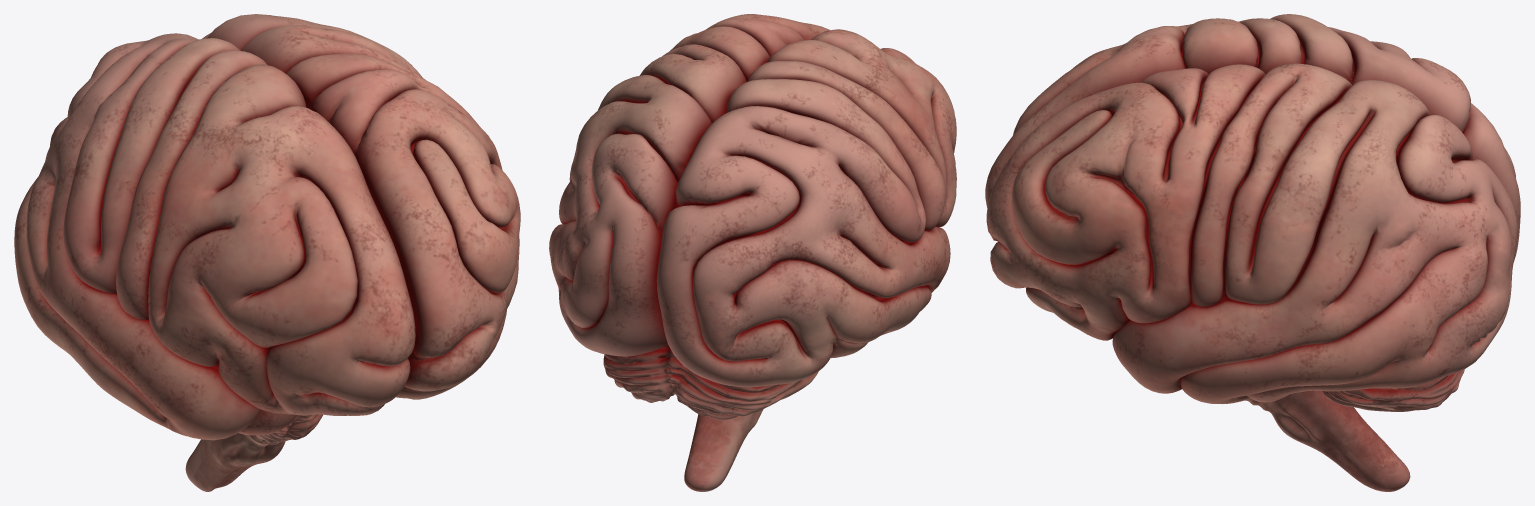
Rendered from cerebro_2.glb.
3 renders of one model, left to right at view 1: azimuth 30°, elevation 25°; view 2: azimuth 150°, elevation 25°; view 3: azimuth 270°, elevation 25°, orthographic. The views are drawn at different scales.
Parts seen in each view (by area): view 1: BRAIN_LOW, BRAIN_STEM; view 2: BRAIN_LOW, cerebellum, BRAIN_STEM; view 3: BRAIN_LOW, BRAIN_STEM, cerebellum.
Boxes of the visible parts, <box> form: BRAIN_LOW: <box>14,14,520,440</box>; BRAIN_STEM: <box>185,414,322,491</box>; BRAIN_LOW: <box>549,14,956,387</box>; cerebellum: <box>603,345,818,419</box>; BRAIN_STEM: <box>684,409,763,491</box>; BRAIN_LOW: <box>985,14,1520,404</box>; BRAIN_STEM: <box>1244,390,1410,491</box>; cerebellum: <box>1321,369,1464,411</box>.
Size of what is drawn, in the model's own units: 0.044 by 0.0509 by 0.0555.
4 materials, 4 textured.
